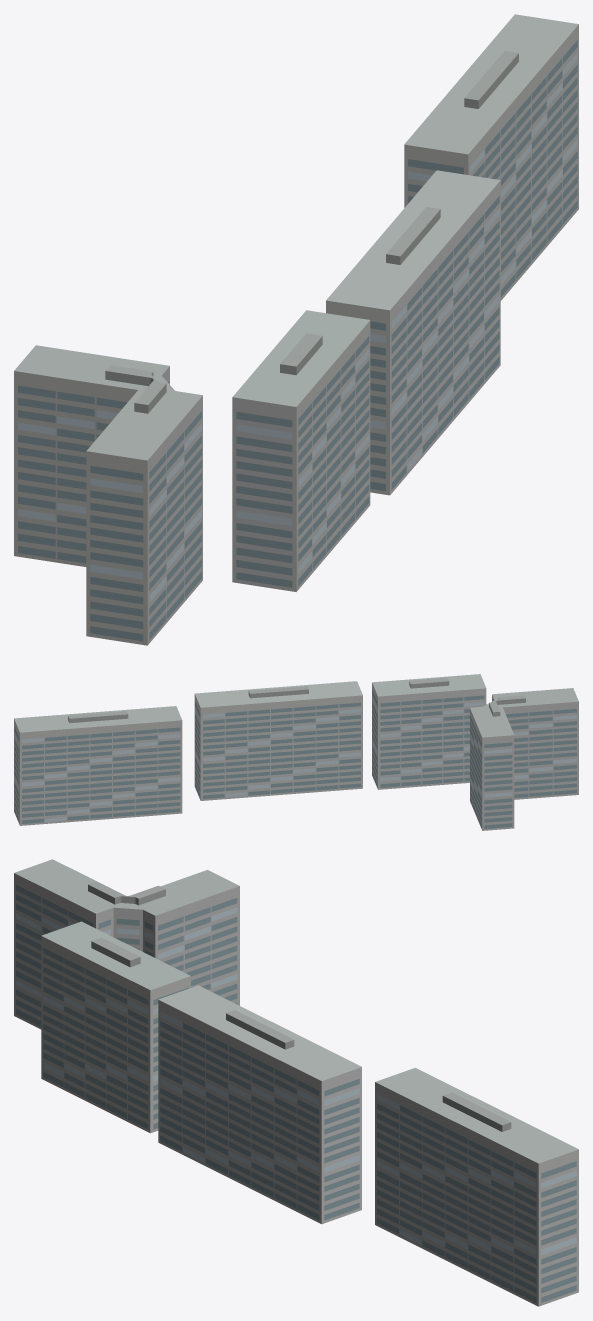
Rendered from apt-a13588601.glb.
3 views of the same model, one above another, from view 1: azimuth 30°, elevation 25°; view 2: azimuth 150°, elevation 25°; view 3: azimuth 270°, elevation 25° (orthographic). The views are drawn at different scales.
Visible parts, largest first — view 1: apt-a13588601; view 2: apt-a13588601; view 3: apt-a13588601.
Part boxes in pixels (left/top/right/bottom): apt-a13588601: left=14, top=14, right=578, bottom=645; apt-a13588601: left=14, top=674, right=578, bottom=830; apt-a13588601: left=14, top=859, right=578, bottom=1306.
Bounding box in the file's own units: 179 × 41 × 140.
